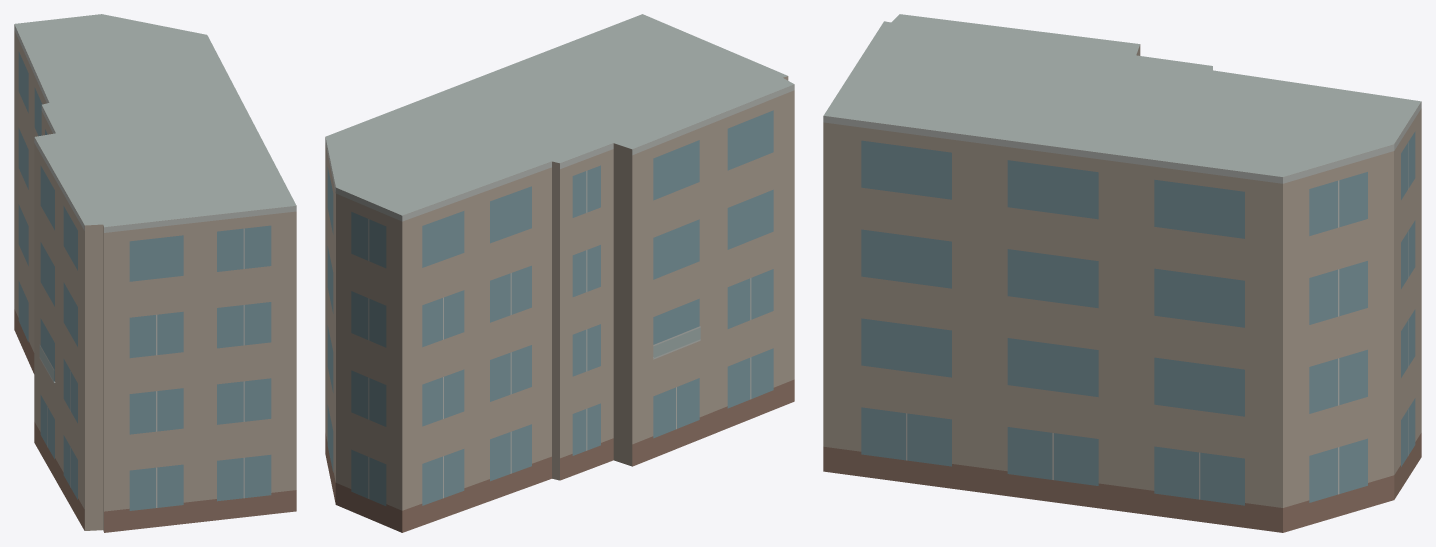
The model's file is survey-upis-33036515.glb.
3 views of the same model, side by side, from view 1: azimuth 30°, elevation 25°; view 2: azimuth 150°, elevation 25°; view 3: azimuth 270°, elevation 25° (orthographic). The views are drawn at different scales.
Visible parts, largest first — view 1: survey-upis-33036515.tmp; view 2: survey-upis-33036515.tmp; view 3: survey-upis-33036515.tmp.
Boxes of the visible parts, x1,y1,x2,y2 form: survey-upis-33036515.tmp: (14,14,296,532); survey-upis-33036515.tmp: (325,14,794,532); survey-upis-33036515.tmp: (823,14,1421,532).
Size of the model in its own units: 12.8 by 13 by 19.82.
